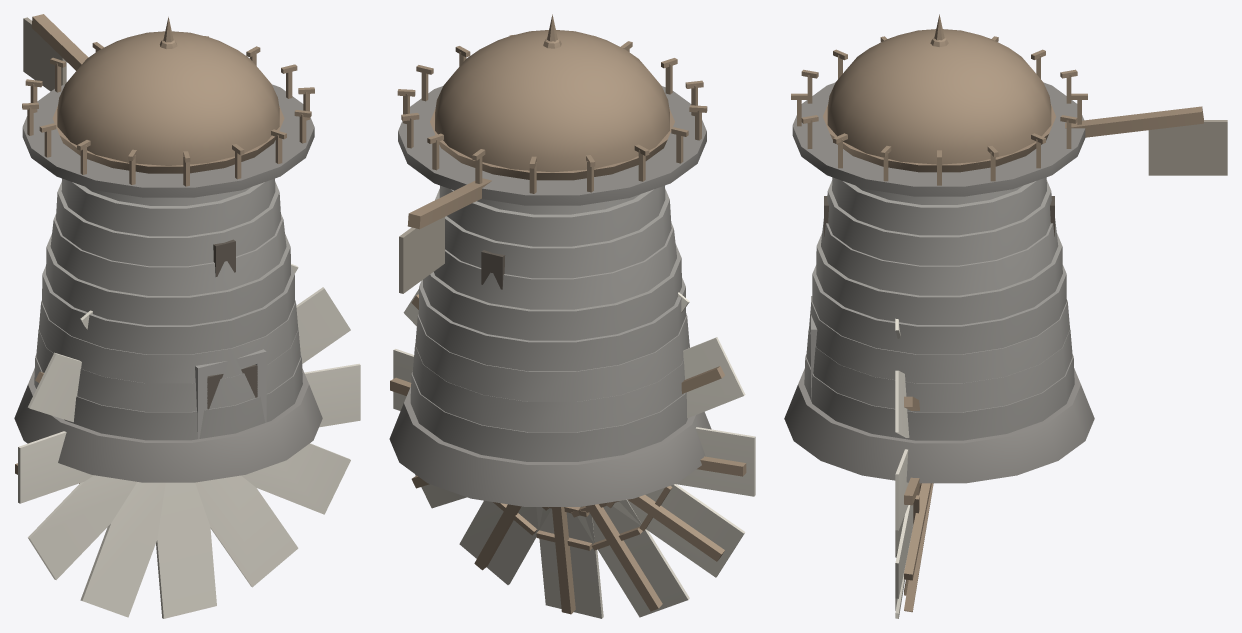
The model's file is windmill.glb.
3 renders of one model, left to right at view 1: azimuth 30°, elevation 25°; view 2: azimuth 150°, elevation 25°; view 3: azimuth 270°, elevation 25°, orthographic. The views are drawn at different scales.
Visible parts, largest first — view 1: windmill, windmill-sails, windmill-cap; view 2: windmill, windmill-cap, windmill-sails; view 3: windmill, windmill-cap, windmill-sails.
Boxes of the visible parts, x1,y1,x2,y2 form: windmill: (14, 84, 322, 482); windmill-sails: (15, 264, 360, 618); windmill-cap: (22, 14, 314, 186); windmill: (389, 86, 711, 506); windmill-cap: (397, 14, 707, 293); windmill-sails: (390, 289, 755, 618); windmill: (784, 82, 1094, 483); windmill-cap: (791, 14, 1227, 185); windmill-sails: (895, 318, 933, 618).
Size of the model in its own units: 5.77 by 9.39 by 6.46.
